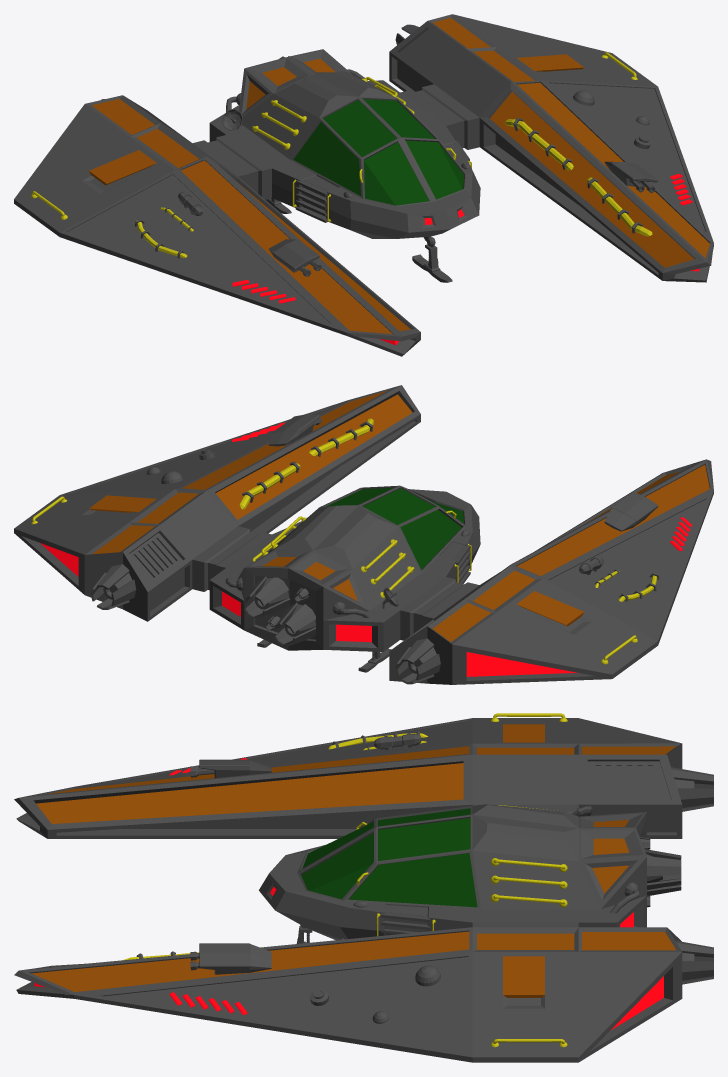
The model's file is SpaceshipLanded.fbx.
The picture shows the model from 3 angles, top to bottom: view 1: azimuth 30°, elevation 25°; view 2: azimuth 150°, elevation 25°; view 3: azimuth 270°, elevation 25°; orthographic projection. The views are drawn at different scales.
Parts seen in each view (by area): view 1: Spaceship, Landed; view 2: Spaceship; view 3: Spaceship.
Boxes of the visible parts, x1,y1,x2,y2 form: Spaceship: (14,14,713,356); Landed: (265,198,452,282); Spaceship: (14,385,713,684); Spaceship: (14,713,713,1062).
Bounding box in the file's own units: 1729 × 339 × 1507.
